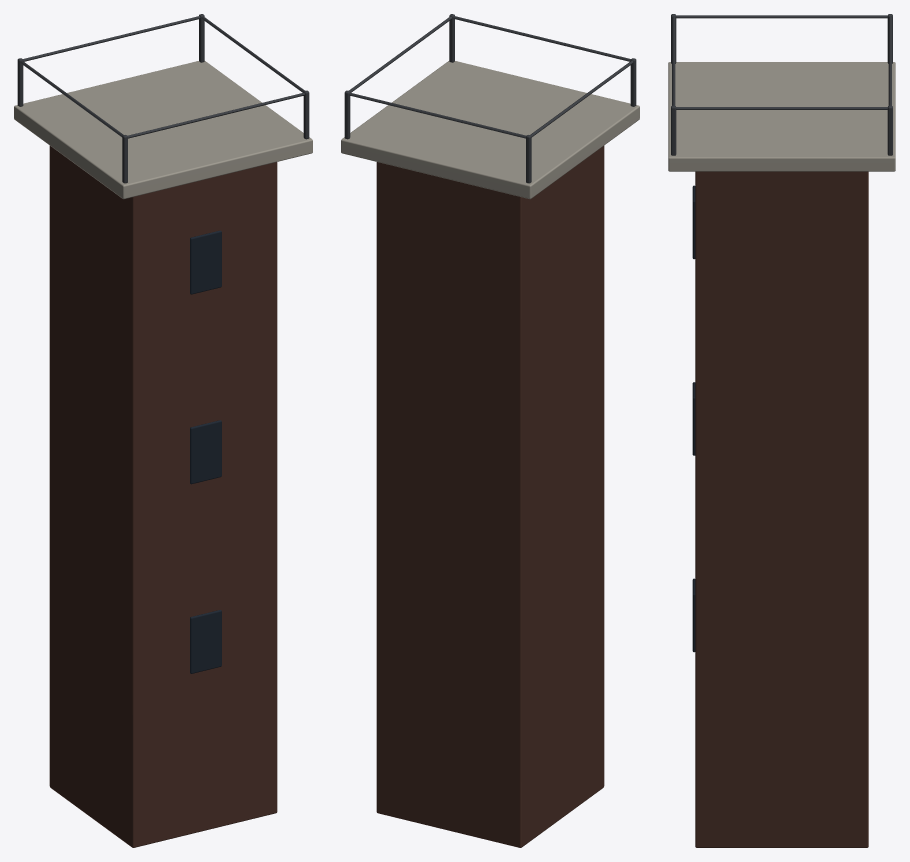
The model's file is uitkijk.glb.
The picture shows the model from 3 angles, left to right: view 1: azimuth 30°, elevation 25°; view 2: azimuth 150°, elevation 25°; view 3: azimuth 270°, elevation 25°; orthographic projection. The views are drawn at different scales.
Parts seen in each view (by area): view 1: Uitkijk; view 2: Uitkijk; view 3: Uitkijk.
Boxes of the visible parts, x1,y1,x2,y2 form: Uitkijk: (14,14,312,847); Uitkijk: (341,14,639,847); Uitkijk: (668,14,895,847).
Bounding box in the file's own units: 4.2 × 15.3 × 4.2.
